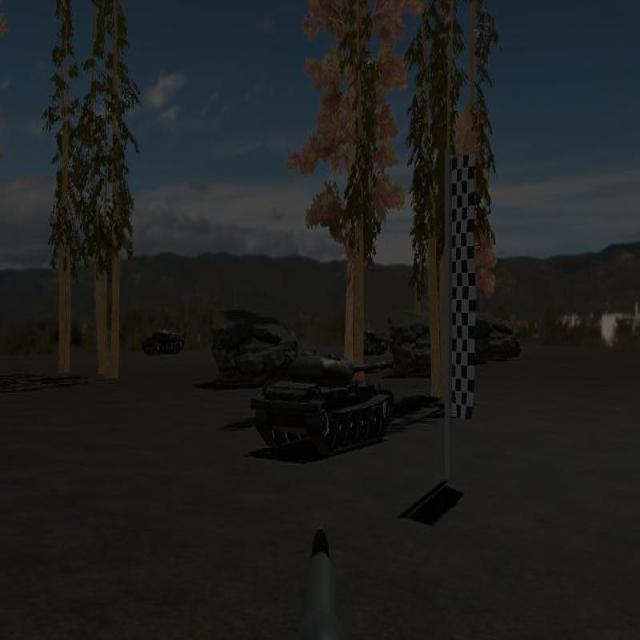Tank: (252, 350, 395, 457)
